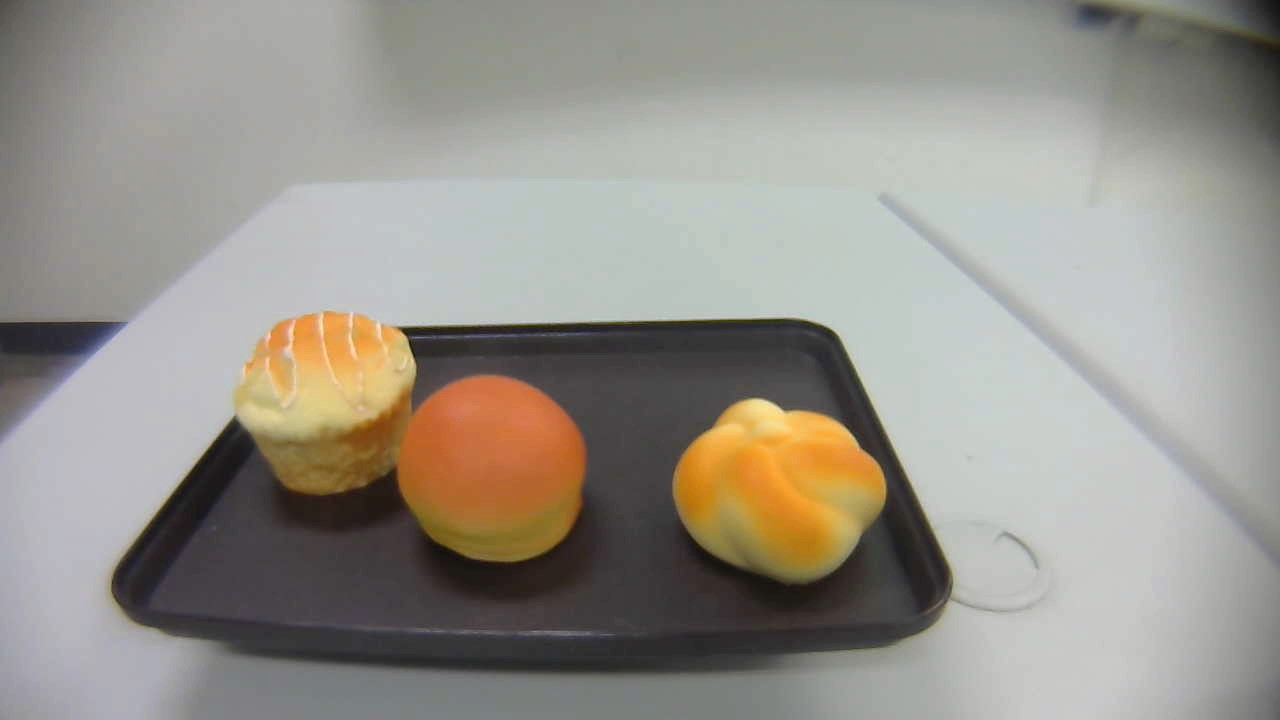bun: (398, 374, 587, 563)
cupcake: (236, 311, 417, 494)
twist bread: (671, 395, 888, 586)
